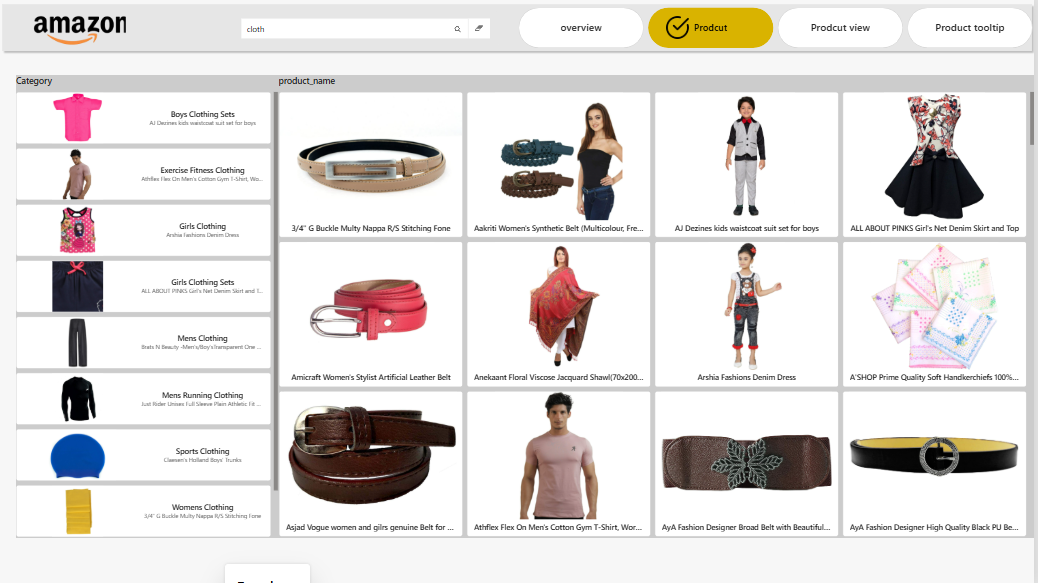

What the dashboard file says about the page in this screenshot:
{"tool":"powerbi","page":{"name":"Prodcut","canvas":[1920,1080],"ordinal":1},"visuals":[{"type":"shape","box":[0,0,1922.2,102.2],"z":0},{"type":"image","box":[0,0,286.7,102.2],"z":1000},{"type":"pageNavigator","box":[964.4,13.3,955.6,75.6],"z":2000},{"type":"textFilter25A4896A83E0487089E2B90C9AE57C8A","fields":{"field":["amazon-fashion - YT.category"]},"box":[433.3,20,493.3,68.9],"z":3000},{"type":"image","box":[1190.1,26,138.7,52],"z":4000},{"type":"advancedSlicerVisual","title":"Category","fields":{"Values":["amazon-fashion - YT.category"],"Label":["Min(amazon-fashion - YT.product_name)"]},"box":[34,138.4,485.7,857.2],"z":5000},{"type":"advancedSlicerVisual","fields":{"Values":["amazon-fashion - YT.product_name"]},"box":[520,138,1400,857],"z":6000}]}

Visuals, with their boxes on the page's 1920x1080 design canvas (x1, y1, x2, y2). These are canvas units, not pixel positions in the 1038x583 screenshot, which may show the page scaled, cropped or inside an application window:
shape: 0/0/1922/102
image: 0/0/287/102
pageNavigator: 964/13/1920/89
textFilter25A4896A83E0487089E2B90C9AE57C8A - amazon-fashion - YT.category: 433/20/927/89
image: 1190/26/1329/78
"Category" advancedSlicerVisual: 34/138/520/996
advancedSlicerVisual - amazon-fashion - YT.product_name: 520/138/1920/995
